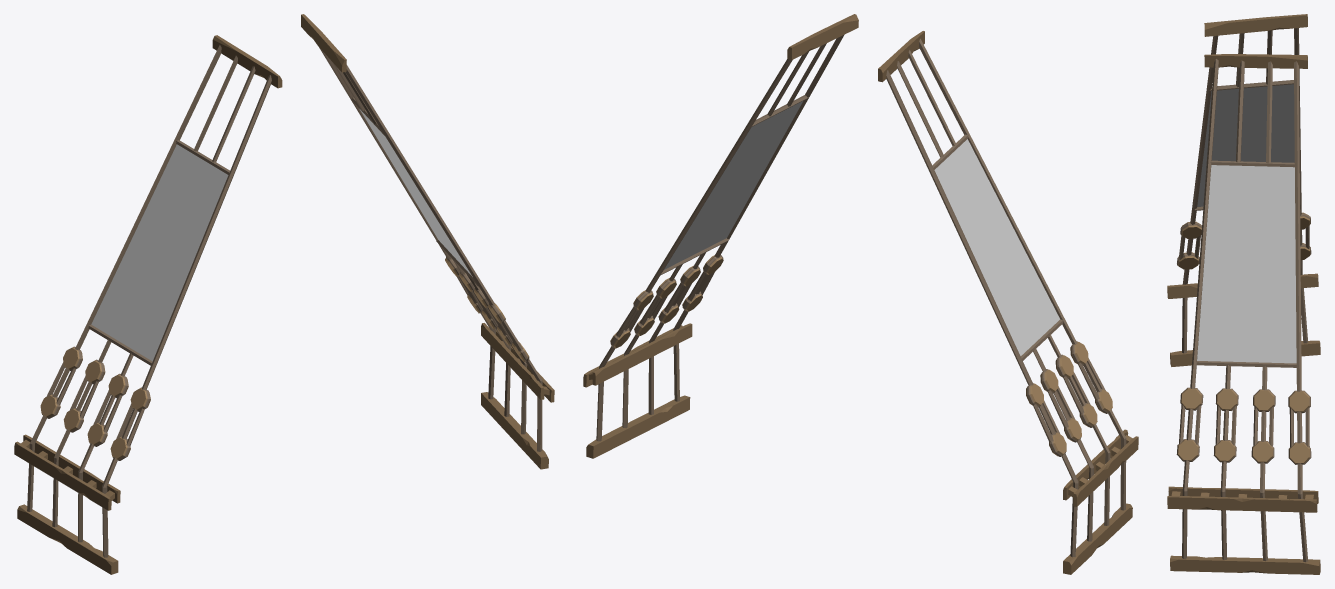
Rendered from SM_Veh_Ship_L_01_Ratlines_Front_01.fbx.
The picture shows the model from 3 angles, left to right: view 1: azimuth 30°, elevation 25°; view 2: azimuth 150°, elevation 25°; view 3: azimuth 270°, elevation 25°; orthographic projection. The views are drawn at different scales.
Visible parts, largest first — view 1: SM_Veh_Ship_L_01_Ratlines_Front_01; view 2: SM_Veh_Ship_L_01_Ratlines_Front_01; view 3: SM_Veh_Ship_L_01_Ratlines_Front_01.
Boxes of the visible parts, bbox=[...] form: SM_Veh_Ship_L_01_Ratlines_Front_01: bbox=[14, 14, 554, 574]; SM_Veh_Ship_L_01_Ratlines_Front_01: bbox=[583, 14, 1138, 574]; SM_Veh_Ship_L_01_Ratlines_Front_01: bbox=[1167, 14, 1320, 574].
Size of the model in its own units: 1036 by 917 by 295.
